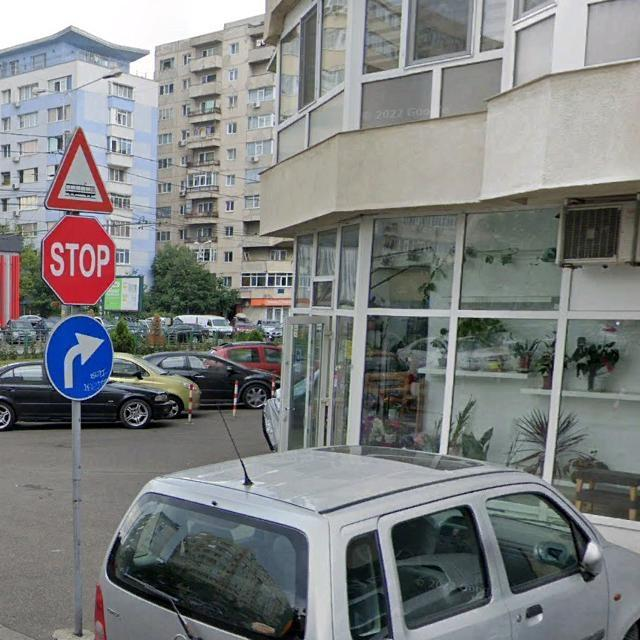prio_stop: (38, 214, 118, 304)
